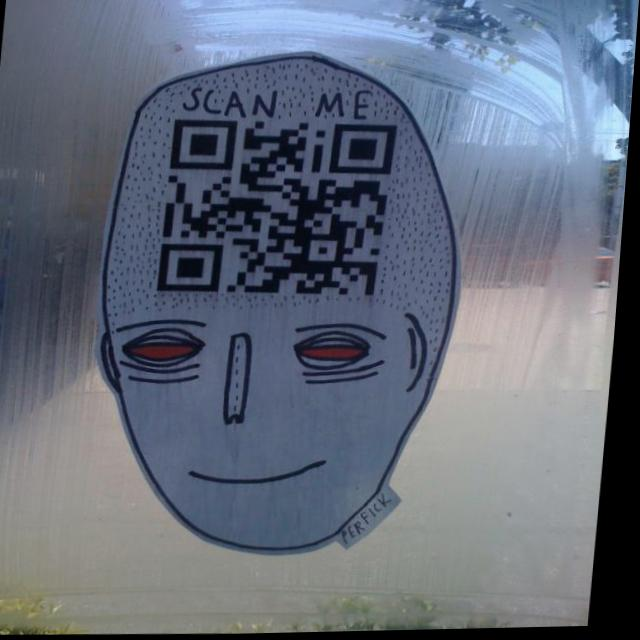qrcode: (162, 116, 401, 301)
